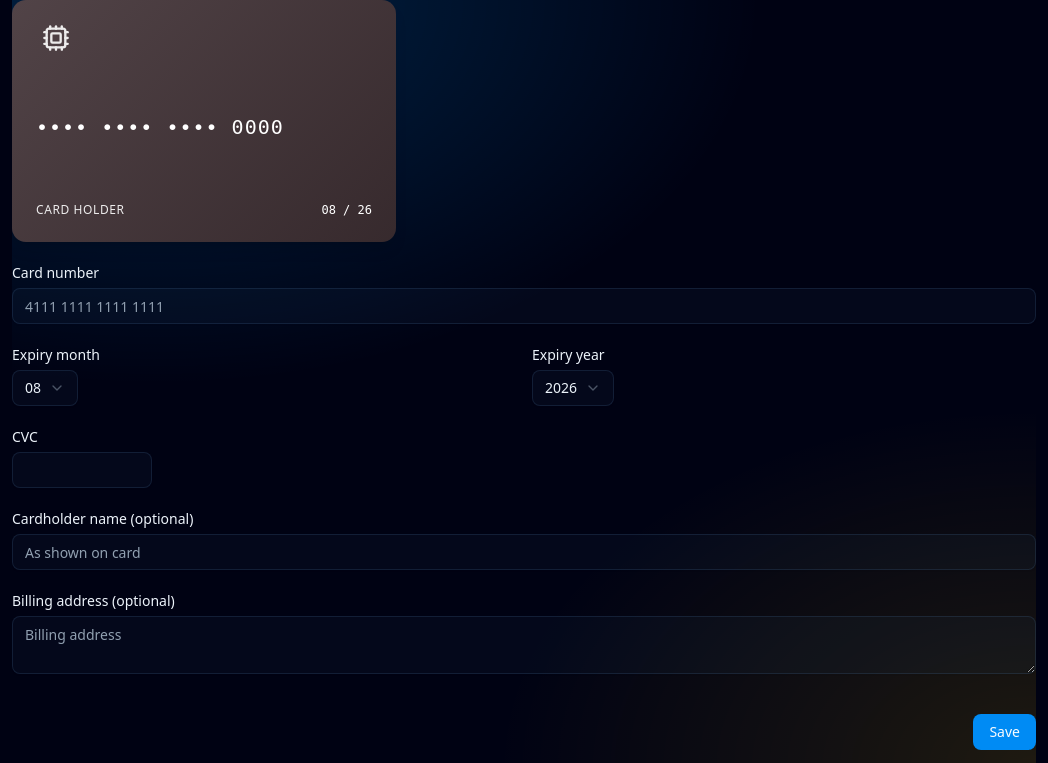
Test case: CreditCardForm › F6: CVC 2자리 입력 → 최소 3자리 에러
Type "4111111111111111" into the field labelled "Card number" at (524, 306), box x1=12 y1=288 x2=1036 y2=324
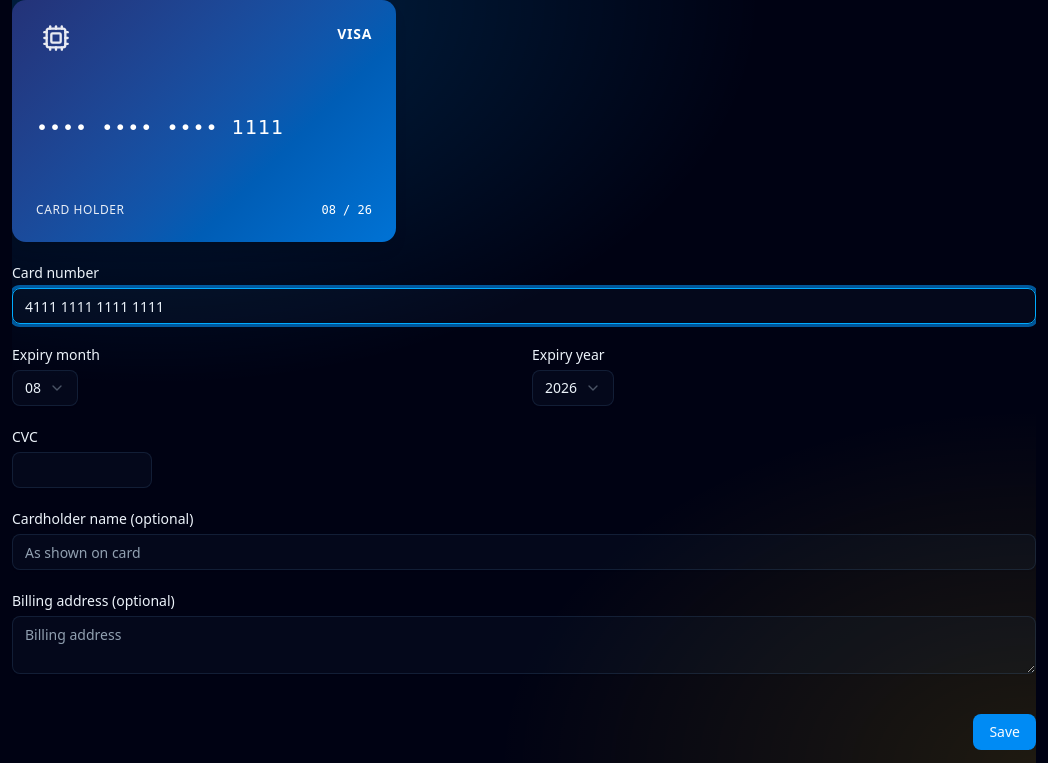
Type "12" into the password field named "CVC" at (82, 470), box x1=12 y1=452 x2=152 y2=488
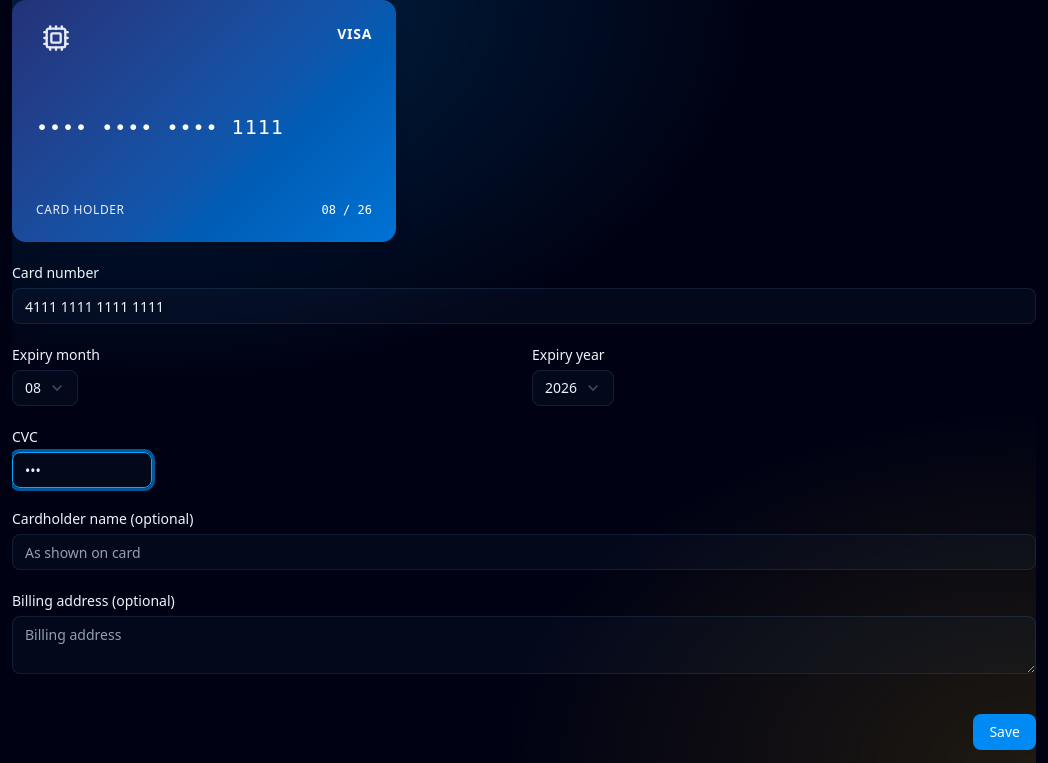
Click the button "Save" at (1005, 732), box x1=973 y1=714 x2=1036 y2=750
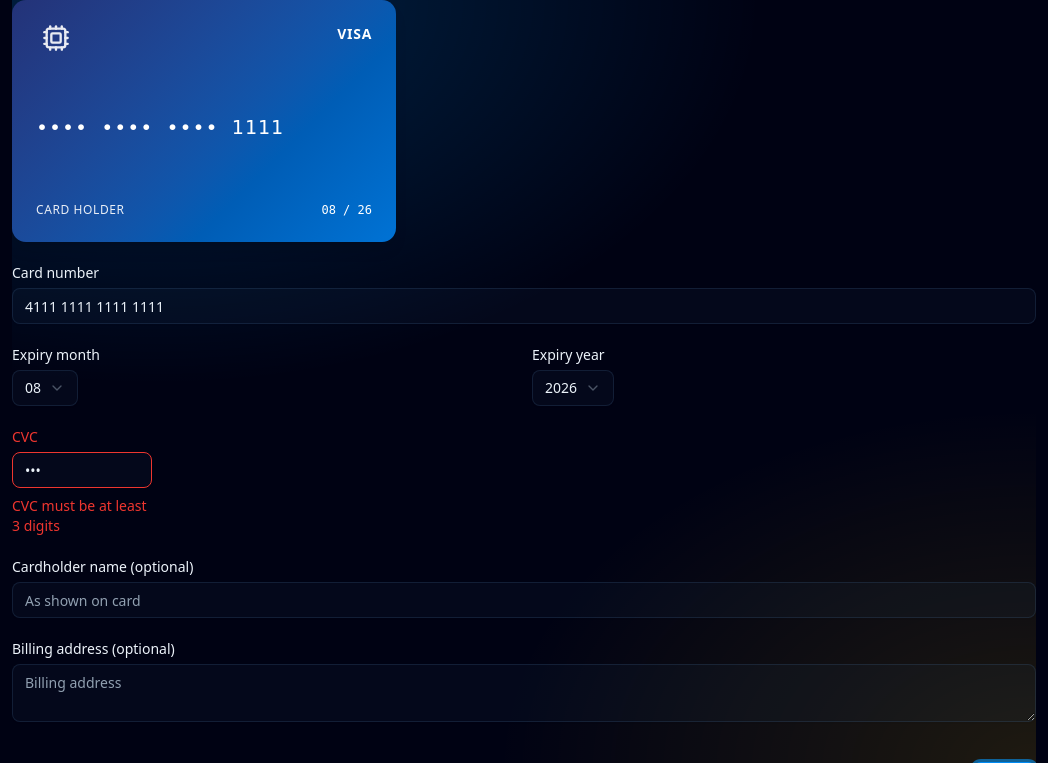
Expected: the text "CVC must be at least 3 digits" is shown, x1=12 y1=496 x2=152 y2=536
